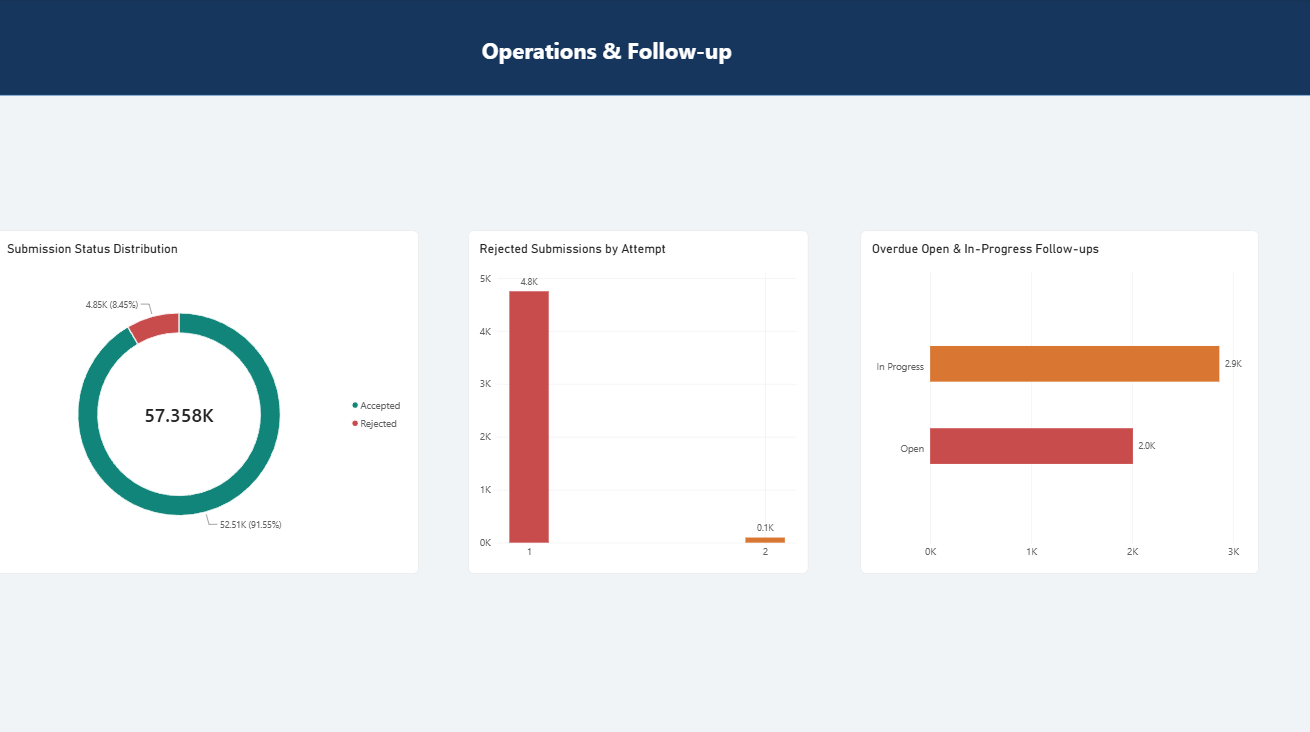

The page's visual inventory and layout, read from the dashboard file:
{"tool":"powerbi","page":{"name":"Operations & Follow-up","canvas":[1920,1080],"ordinal":3},"visuals":[{"type":"shape","box":[10.9,0,1909.2,141.2],"z":0},{"type":"donutChart","title":"Submission Status Distribution","fields":{"Category":["fact_claim_submissions.Clearinghouse_Status"],"Y":["CountNonNull(fact_claim_submissions.Submission_ID)"]},"box":[11.4,336.9,612.8,496.8],"z":1},{"type":"clusteredColumnChart","title":"Rejected Submissions by Attempt","fields":{"Category":["fact_claim_submissions.Attempt_Number"],"Y":["CountNonNull(fact_claim_submissions.Submission_ID)"]},"box":[694.7,336.9,492.9,496.8],"z":2},{"type":"clusteredBarChart","title":"Overdue Open & In-Progress Follow-ups","fields":{"Category":["fact_claim_actions.Action_Status"],"Y":["fact_claim_actions.Overdue Follow-up Actions"]},"box":[1263.8,336.9,576.7,496.8],"z":3},{"type":"textbox","box":[714.8,54.3,1205.2,191.8],"z":4}]}

Visuals, with their boxes in screenshot pixels (x1, y1, x2, y2), scaled from the page's 1920x1080 canvas onto the 1310x732 screenshot:
shape: {"left": 7, "top": 0, "right": 1309, "bottom": 96}
"Submission Status Distribution" donutChart: {"left": 8, "top": 228, "right": 426, "bottom": 565}
"Rejected Submissions by Attempt" clusteredColumnChart: {"left": 474, "top": 228, "right": 810, "bottom": 565}
"Overdue Open & In-Progress Follow-ups" clusteredBarChart: {"left": 862, "top": 228, "right": 1256, "bottom": 565}
textbox: {"left": 488, "top": 37, "right": 1309, "bottom": 167}
